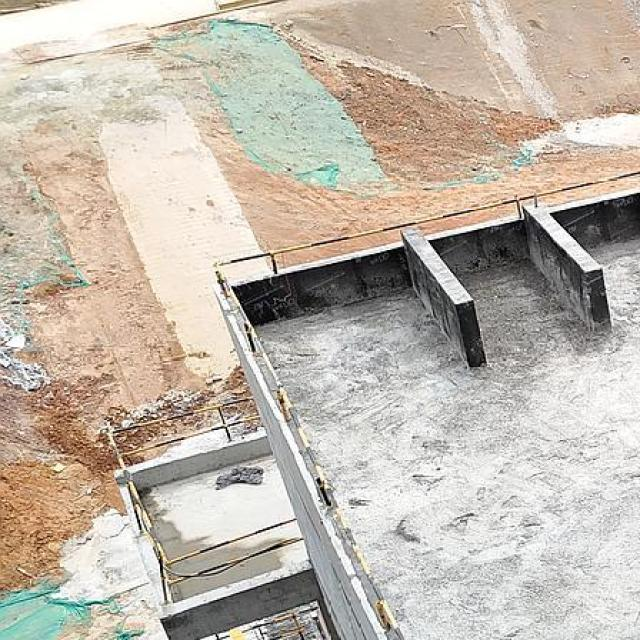Guardrail: (211, 168, 639, 640), (106, 395, 306, 606)
